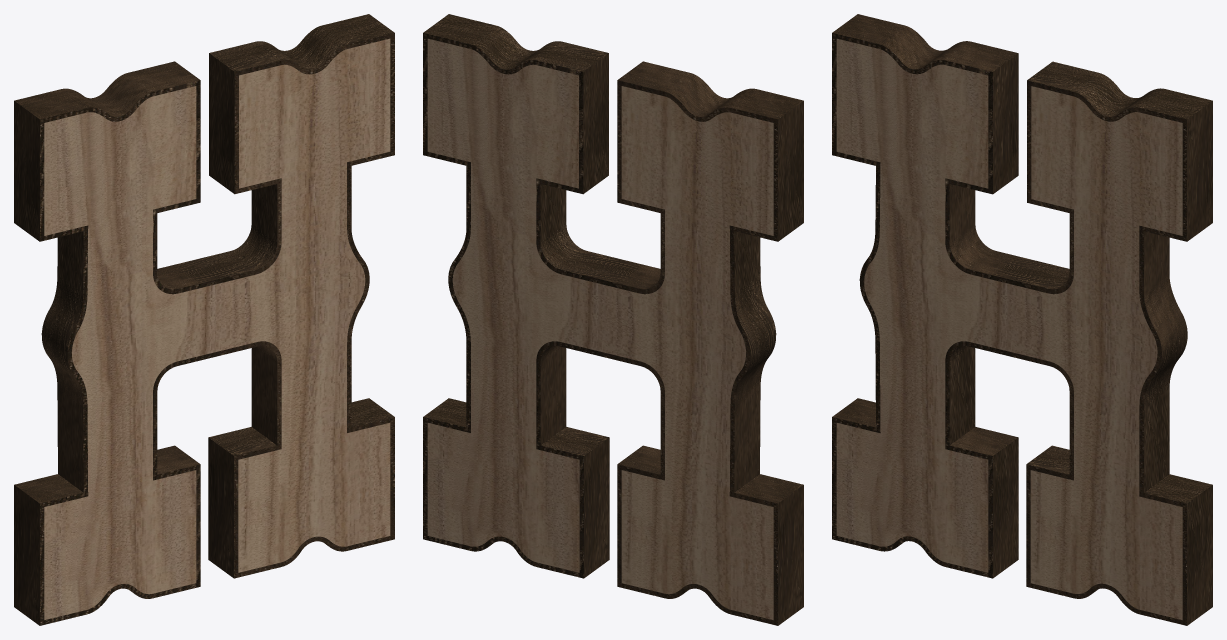
The picture shows the model from 3 angles, left to right: view 1: azimuth 30°, elevation 25°; view 2: azimuth 150°, elevation 25°; view 3: azimuth 330°, elevation 25°; orthographic projection.
Parts seen in each view (by area): view 1: H, H_outline; view 2: H, H_outline; view 3: H, H_outline.
Part boxes in pixels (bbox=[...]): H: bbox=[44, 38, 390, 619]; H_outline: bbox=[14, 14, 394, 625]; H: bbox=[427, 38, 773, 619]; H_outline: bbox=[423, 14, 803, 625]; H: bbox=[836, 38, 1182, 619]; H_outline: bbox=[832, 14, 1212, 625].
Bounding box in the file's own units: 79.79 × 109 × 10.
2 materials, 2 textured.
